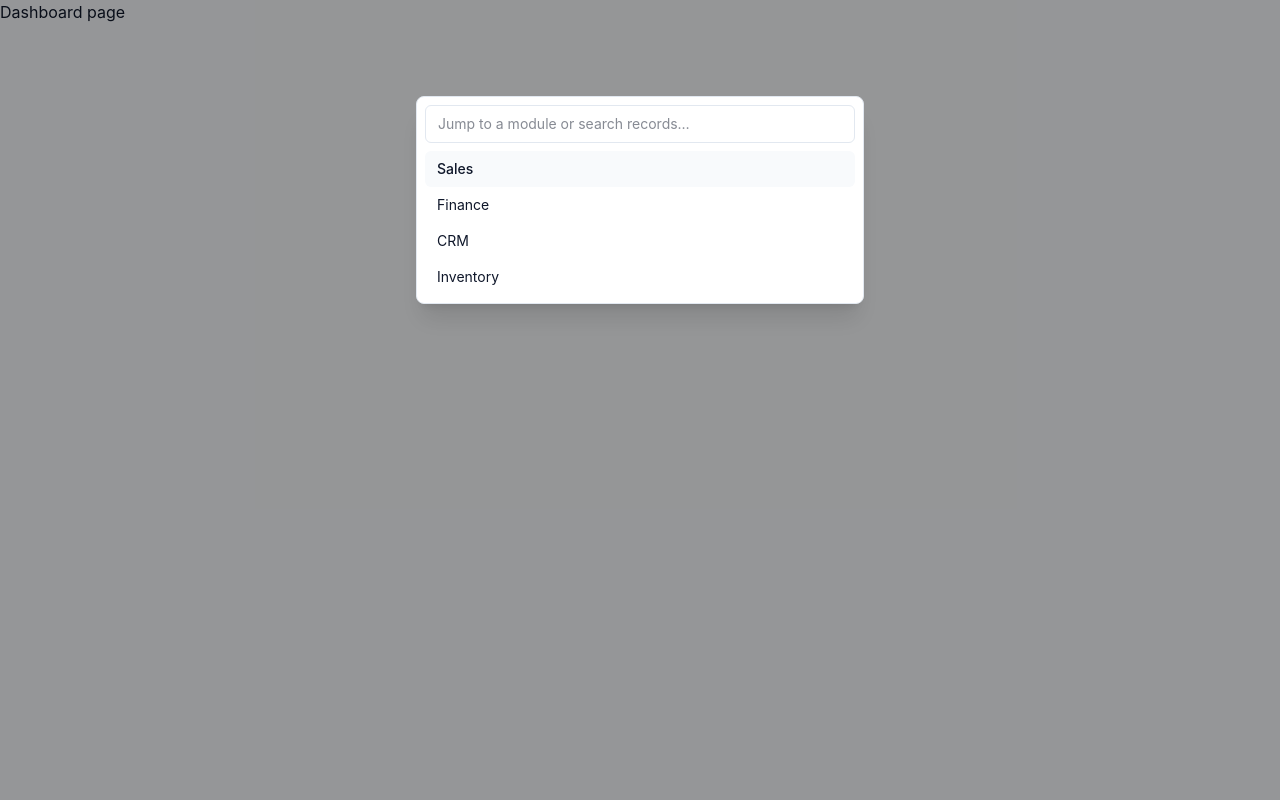
Scenario: CommandPalette › filters the module list as the user types
In the dropdown: (640, 124) [425,105,855,143], type "fin"
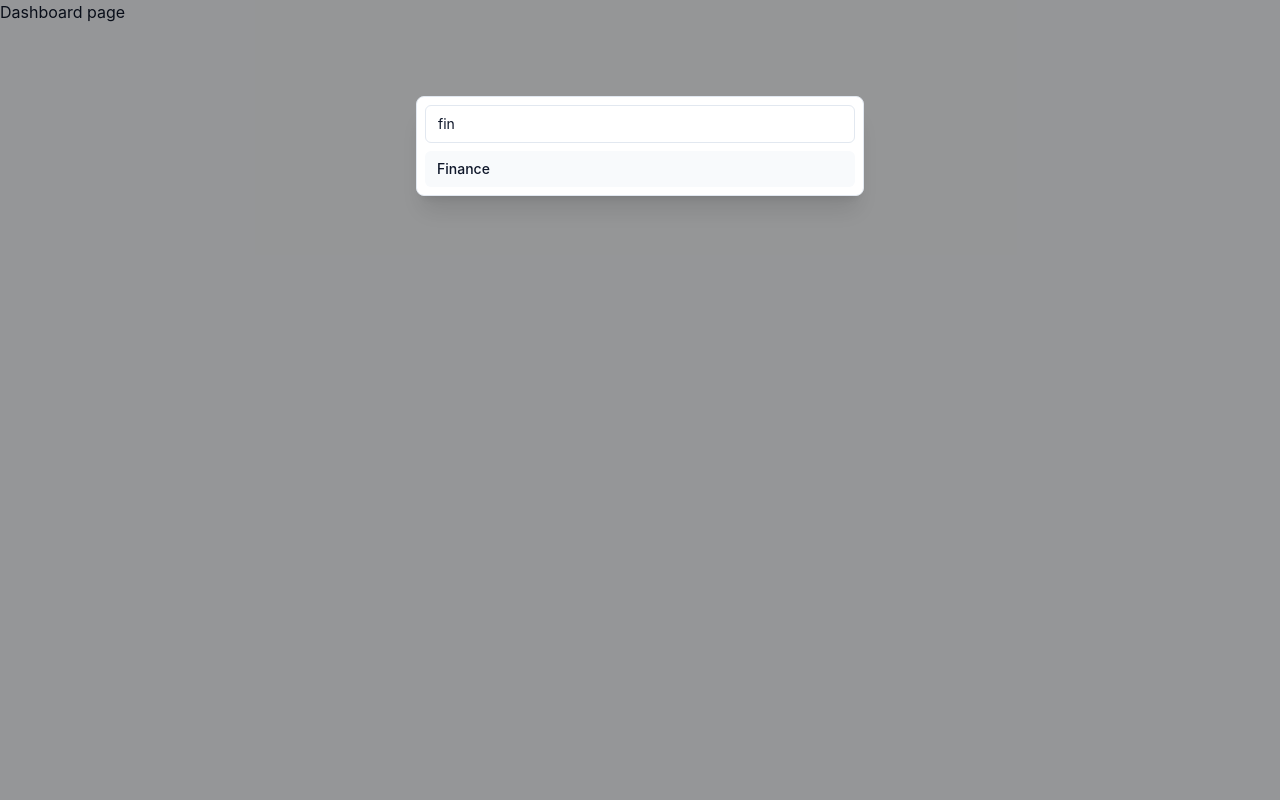
Expected: the option "Finance" is shown, [425,151,855,187]
Result: the option "Sales" is gone
